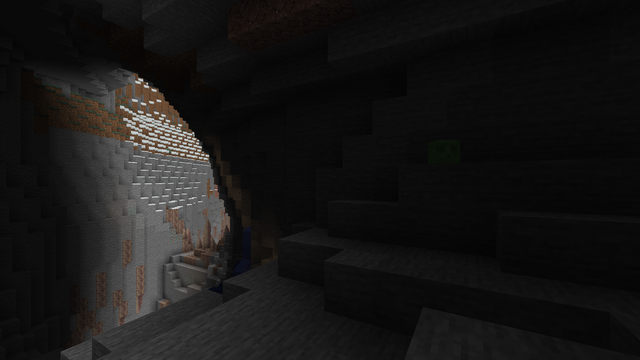slimes: (429, 138, 456, 164)
